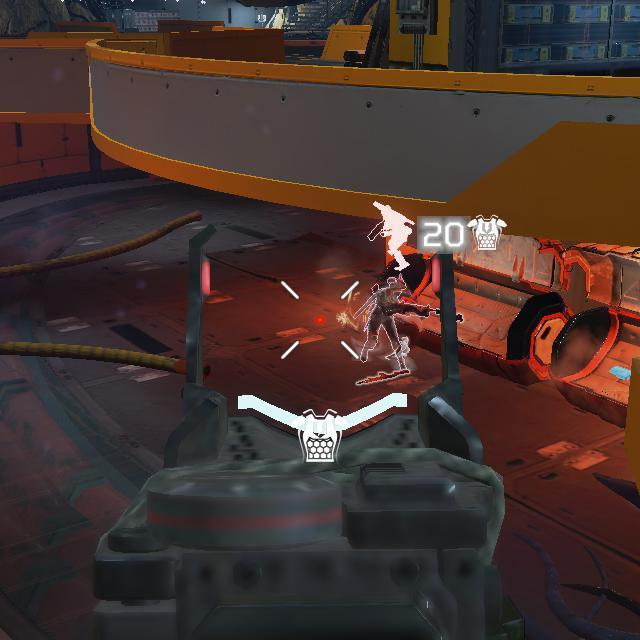avatar: (358, 274, 410, 372)
